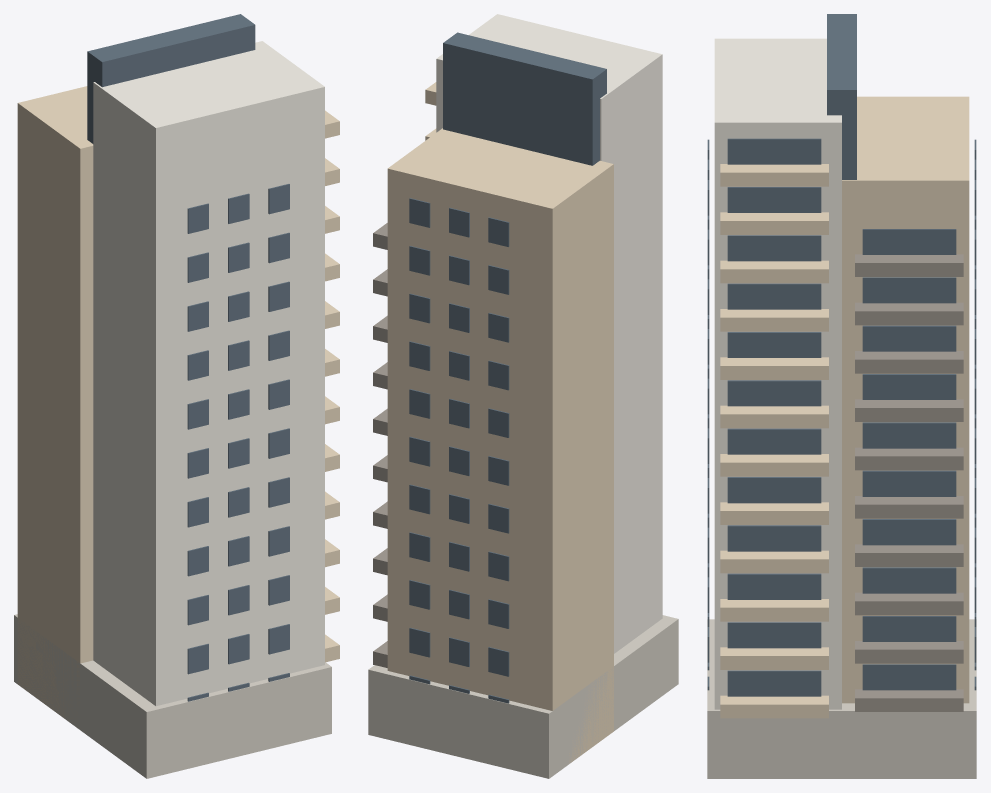
The model's file is rambla_building_18.glb.
The picture shows the model from 3 angles, left to right: view 1: azimuth 30°, elevation 25°; view 2: azimuth 150°, elevation 25°; view 3: azimuth 270°, elevation 25°; orthographic projection. The views are drawn at different scales.
Parts seen in each view (by area): view 1: RamblaBuilding_18; view 2: RamblaBuilding_18; view 3: RamblaBuilding_18.
Part boxes in pixels (left/top/right/bottom): RamblaBuilding_18: left=14, top=14, right=339, bottom=778; RamblaBuilding_18: left=368, top=14, right=678, bottom=778; RamblaBuilding_18: left=707, top=14, right=976, bottom=778.
Bounding box in the file's own units: 12.5 × 40.1 × 14.4.
